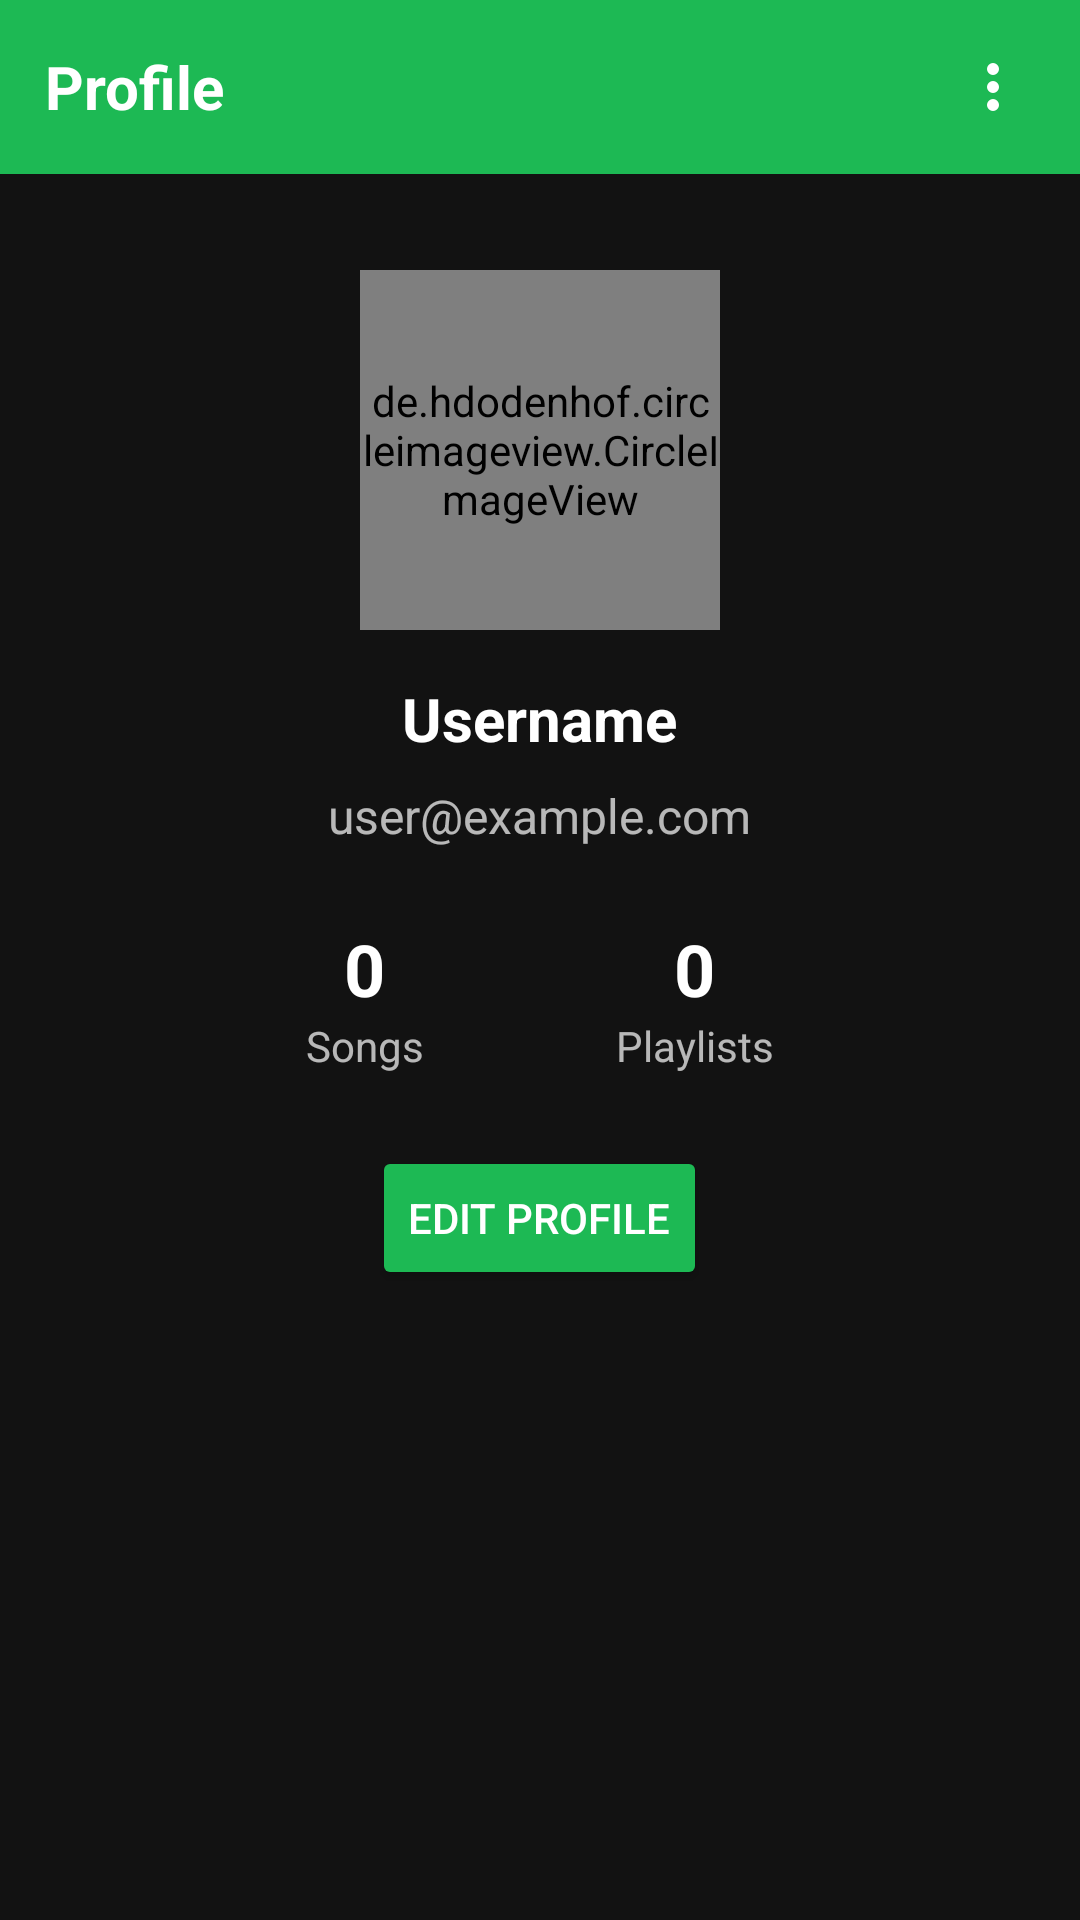

Screen size 1080px×1920px. Icon name, then its box in pixels as {"x1": x1, "y1": y1, "x2": x2, "y2": y2}:
Menu: {"x1": 987, "y1": 63, "x2": 999, "y2": 111}
